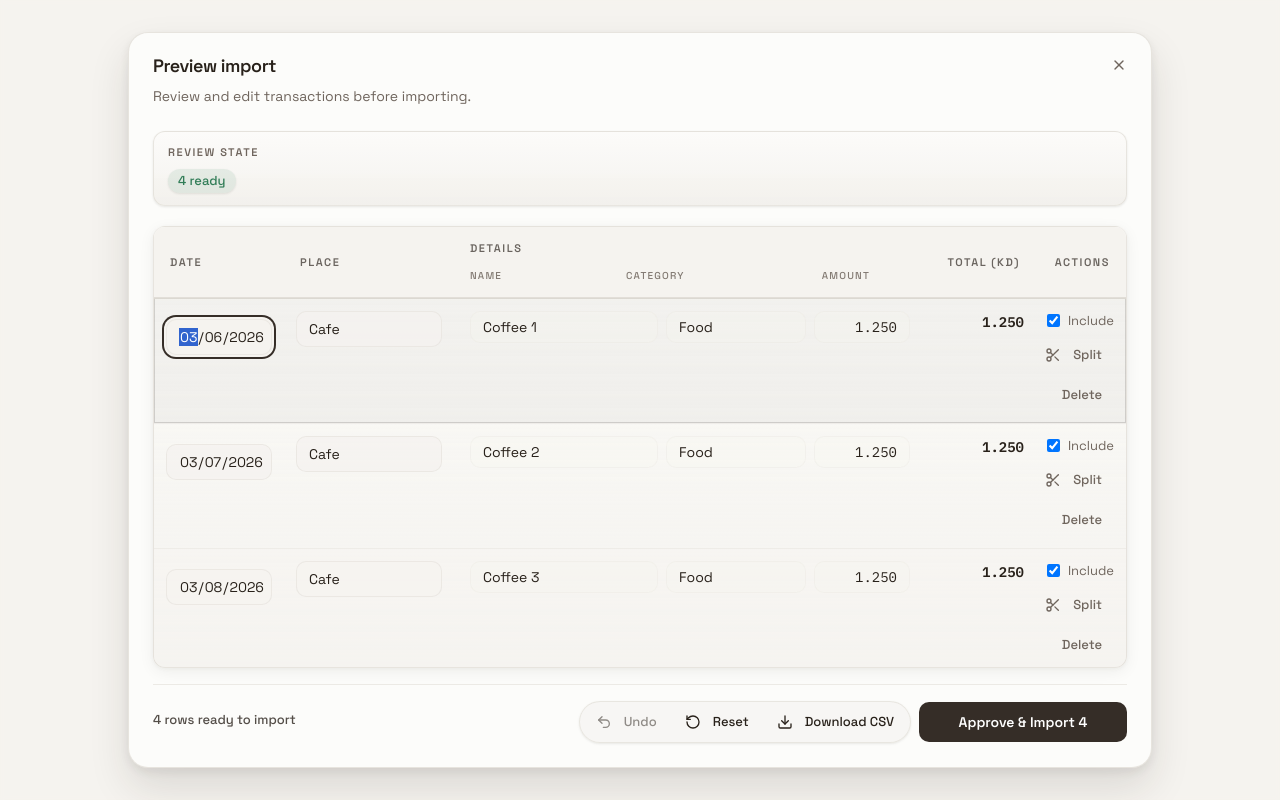
Test: PreviewImportDialog › compresses blocked atomic diagnostics into a single summary line
Click the button "Approve & Import 4" at (1023,722), box [919,702,1127,742]
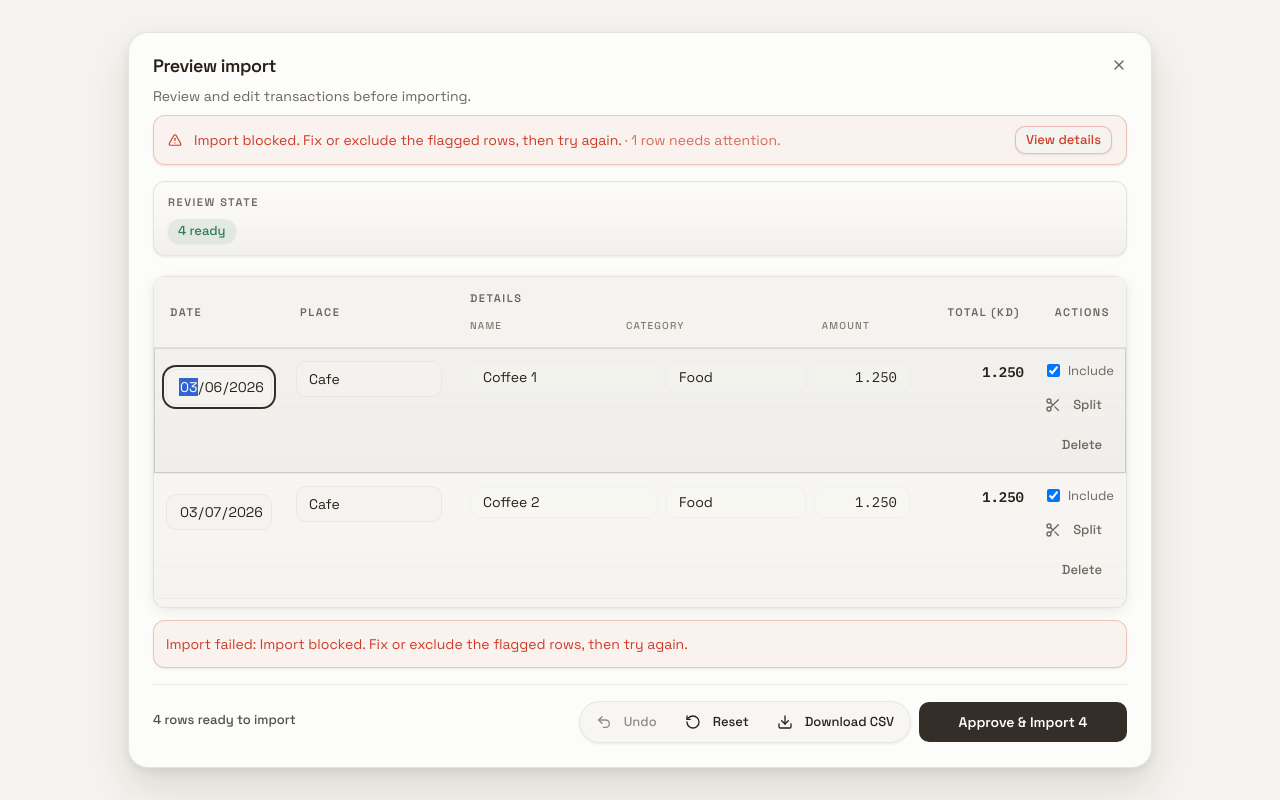
Expected: the text "Import blocked. Fix or exclude the flagged rows, then try again." is shown, [194,131,621,149]
Click the button "View details" at (1063,140), box [1015,126,1112,154]
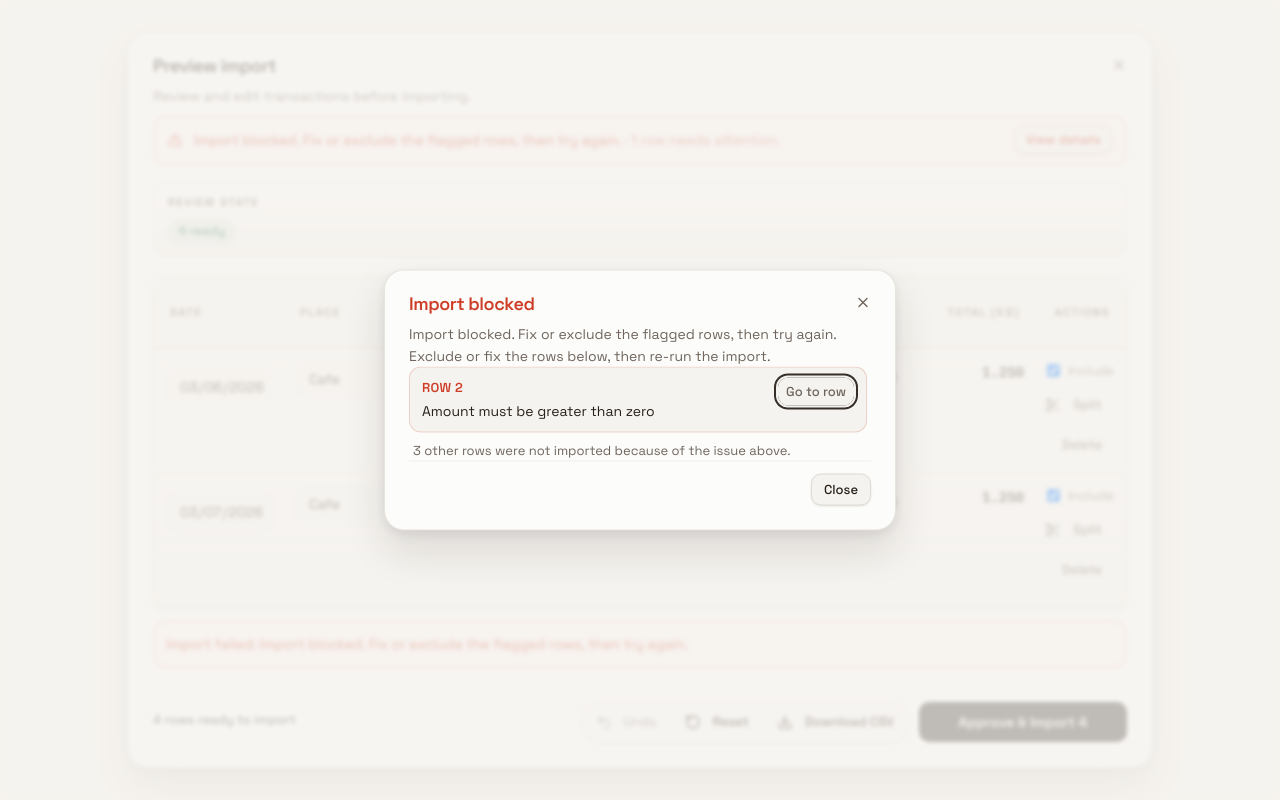
Expected: the text "Row 2" is shown, [422,378,463,396]
Expected: the text "Amount must be greater than zero" is shown, [422,402,655,420]
Expected: the text "3 other rows were not imported because of the issue above." is shown, [413,442,791,458]
